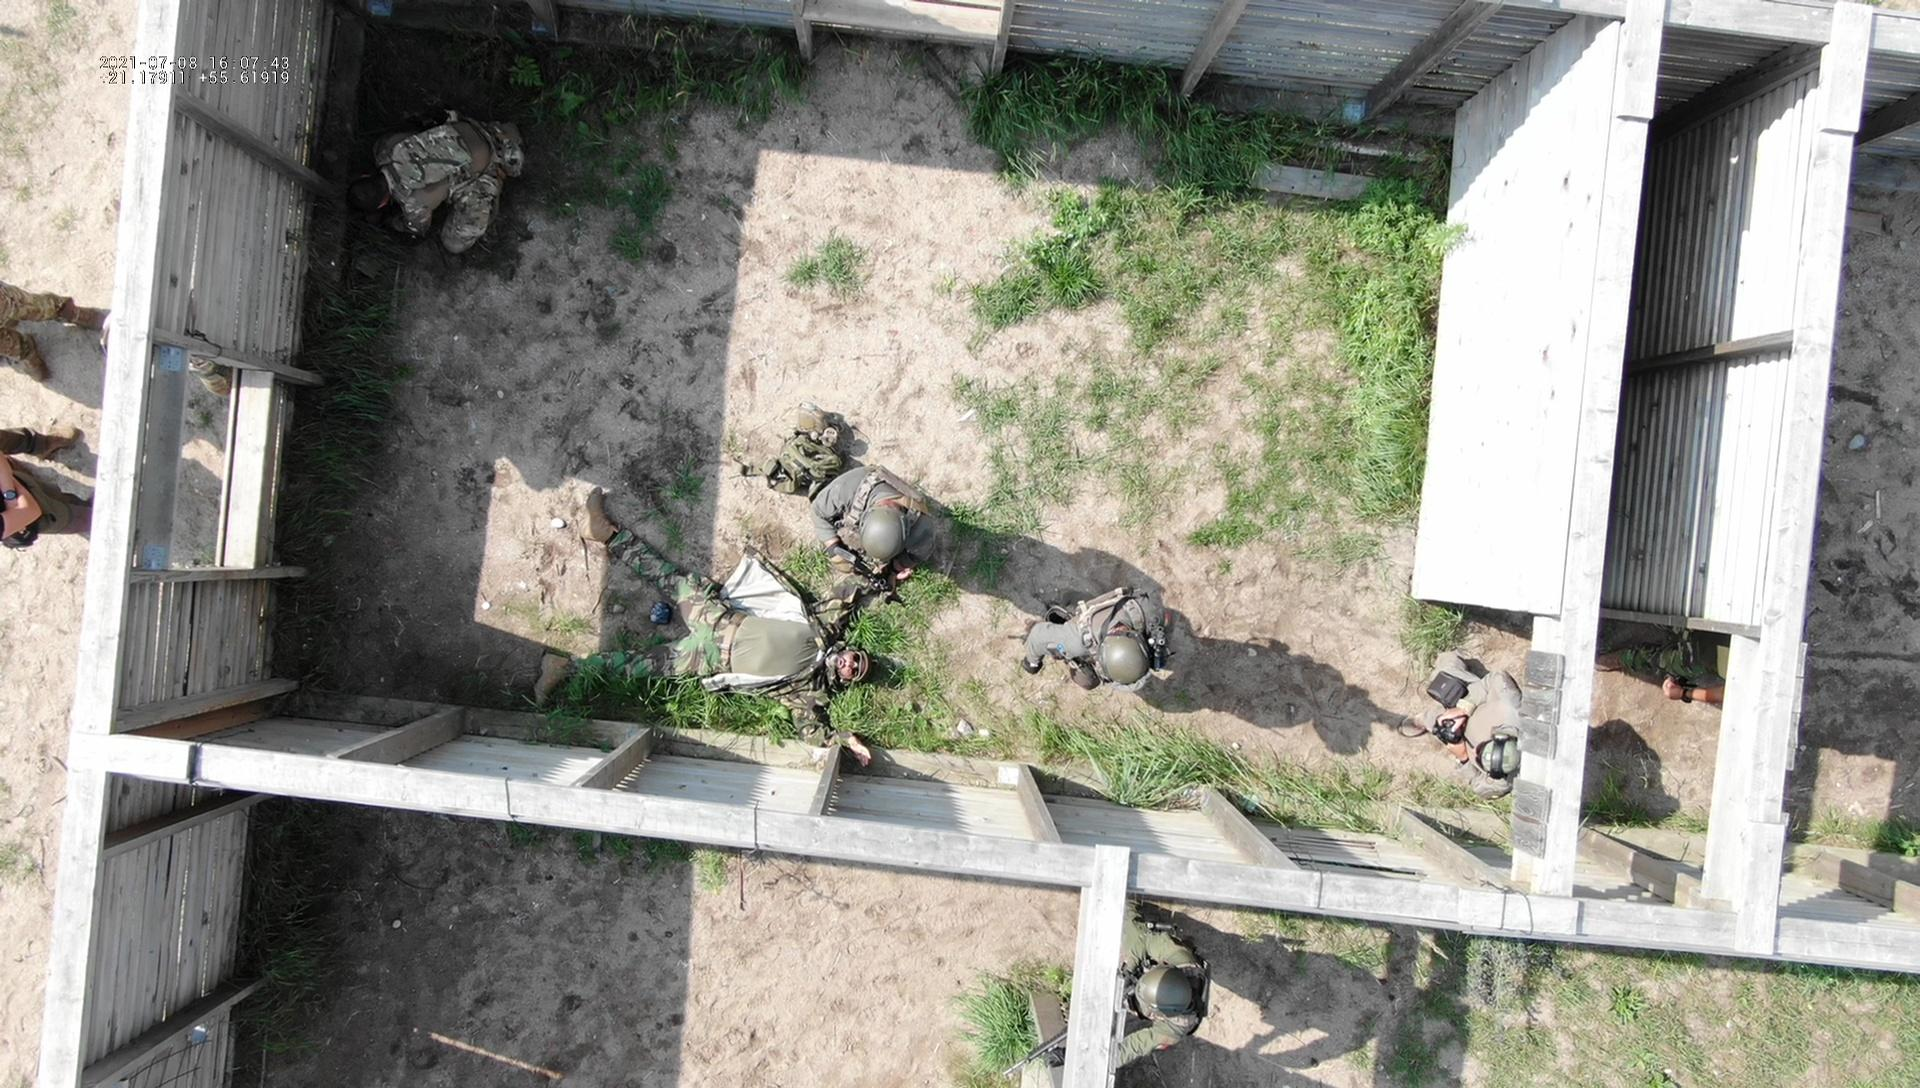Soldier: (531, 485, 874, 750), (351, 113, 527, 255), (1399, 651, 1522, 802), (808, 466, 938, 608), (1023, 586, 1171, 695), (1116, 899, 1211, 1070)
